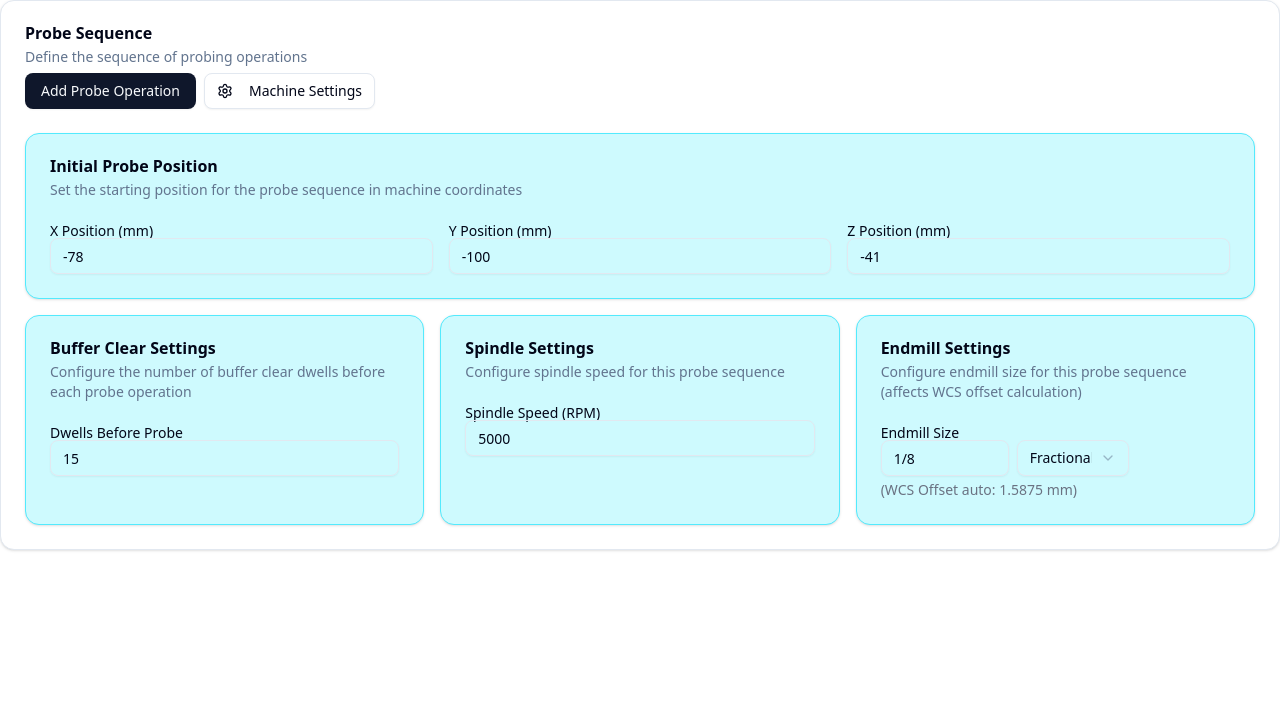
Scenario: ProbeSequence › handles machine settings drawer
The image size is (1280, 720).
// Find and click the machine settings button
Click the button "Machine Settings" at (290, 91), box [204, 73, 375, 109]
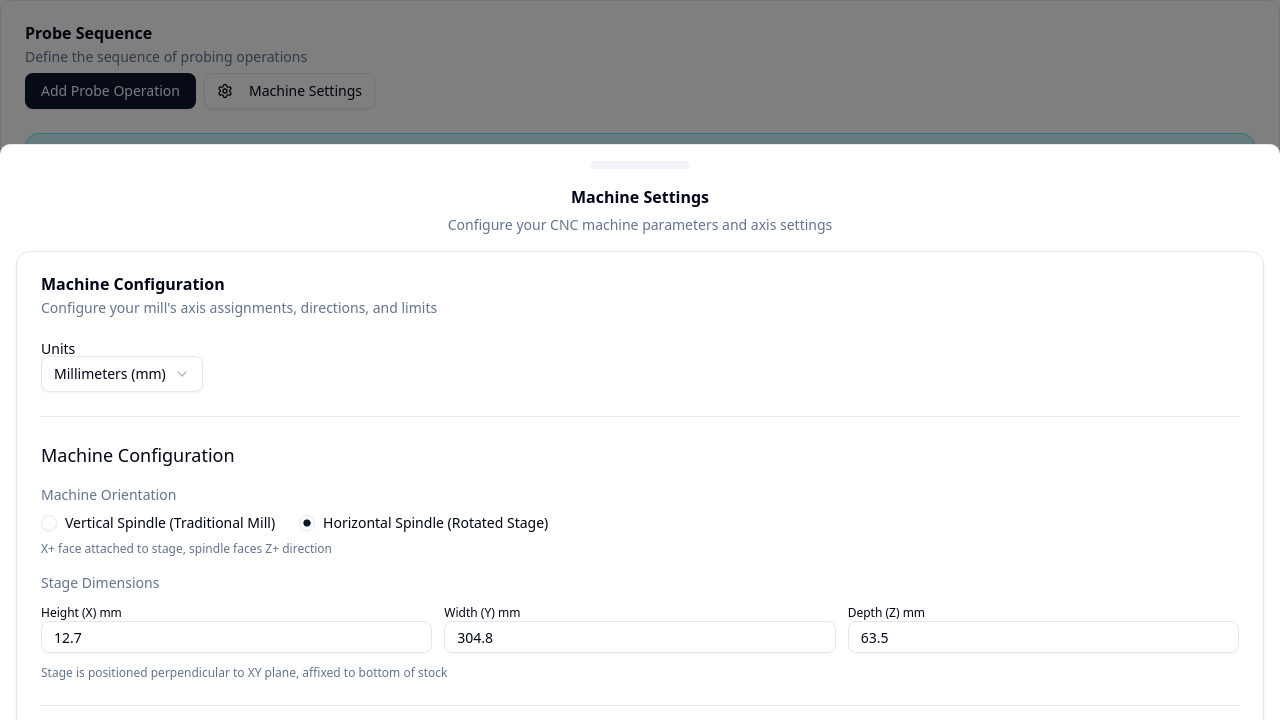
Expected: the text "Configure your CNC machine parameters and axis settings" is shown, [448, 215, 832, 234]
